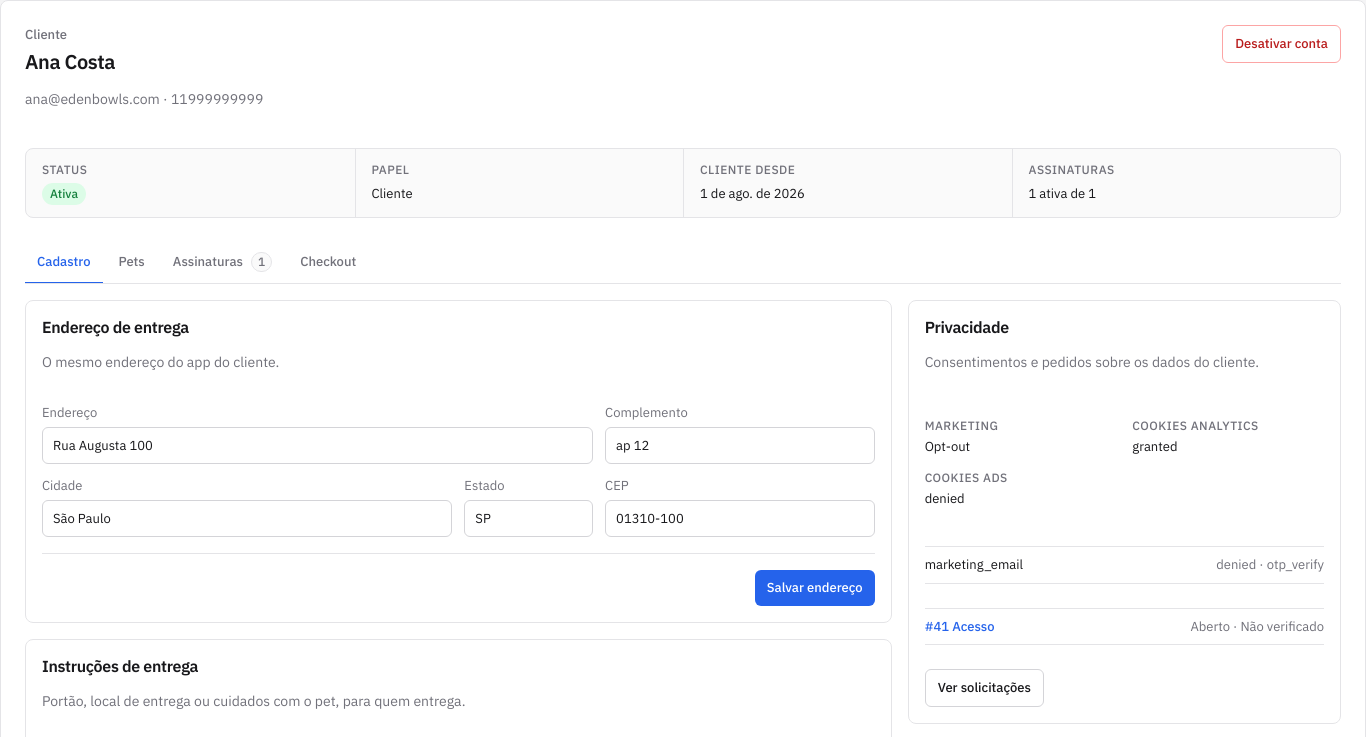
Test: UserDetailPage › deactivates a customer account after confirmation
Click the button "Desativar conta": coordinates (1282, 44) top-left (1222, 25), bottom-right (1341, 62)
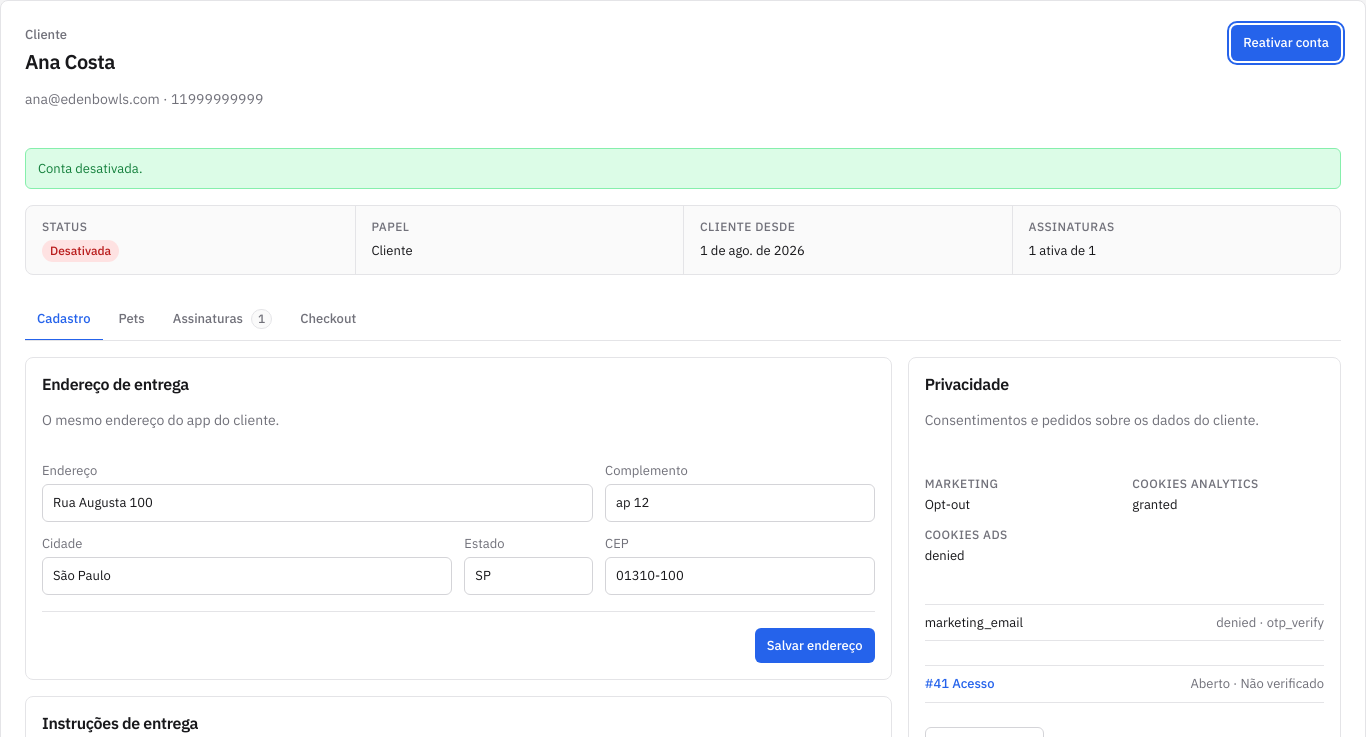
expect the text "Conta desativada." is shown: met, box top-left (25, 148), bottom-right (1341, 189)
